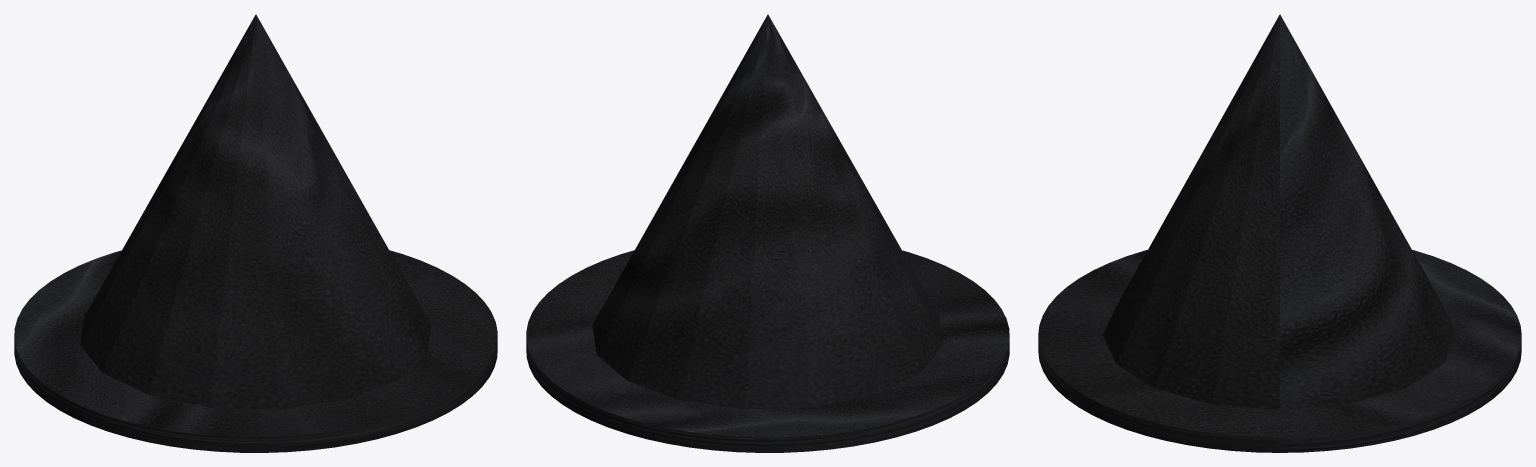
Rendered from witch-hat.fbx.
3 views of the same model, side by side, from view 1: azimuth 30°, elevation 25°; view 2: azimuth 150°, elevation 25°; view 3: azimuth 270°, elevation 25° (orthographic).
Parts seen in each view (by area): view 1: Cone, Cylinder; view 2: Cone, Cylinder; view 3: Cone, Cylinder.
Part boxes in pixels (x1,y1,x2,y2): Cone: (80,14,431,409); Cylinder: (14,250,497,452); Cone: (592,14,943,409); Cylinder: (526,250,1009,452); Cone: (1103,14,1456,409); Cylinder: (1038,250,1521,452).
Bounding box in the file's own units: 270 × 207 × 270.
Materials: 1 (1 with a texture image).
